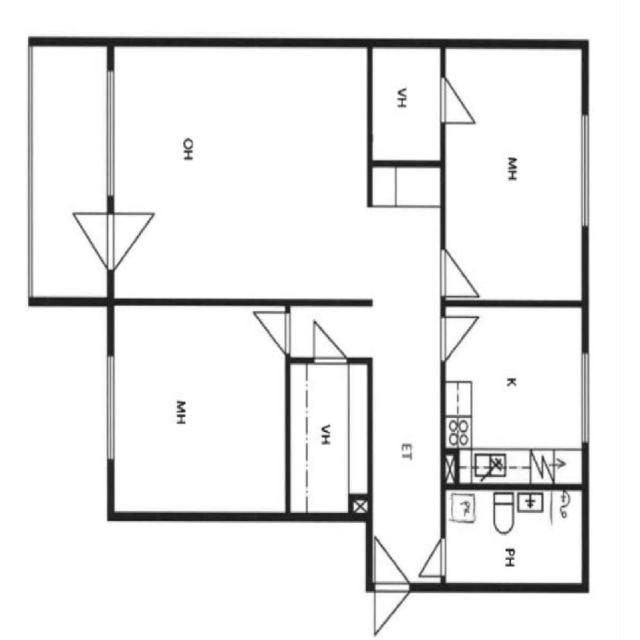door: (368, 533, 413, 635), (306, 318, 354, 369), (436, 310, 480, 362), (437, 74, 478, 128), (254, 306, 293, 357), (418, 536, 450, 584)
window: (102, 65, 114, 206), (579, 108, 592, 232), (104, 347, 115, 464), (434, 244, 454, 302), (580, 345, 591, 449), (308, 352, 350, 370)
zone: (108, 41, 374, 301), (108, 302, 291, 522), (441, 43, 588, 301), (442, 303, 587, 484), (439, 483, 589, 591), (286, 356, 372, 517), (369, 44, 444, 164)
